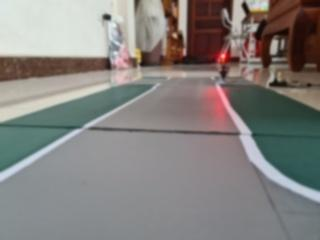red: (213, 47, 233, 76)
